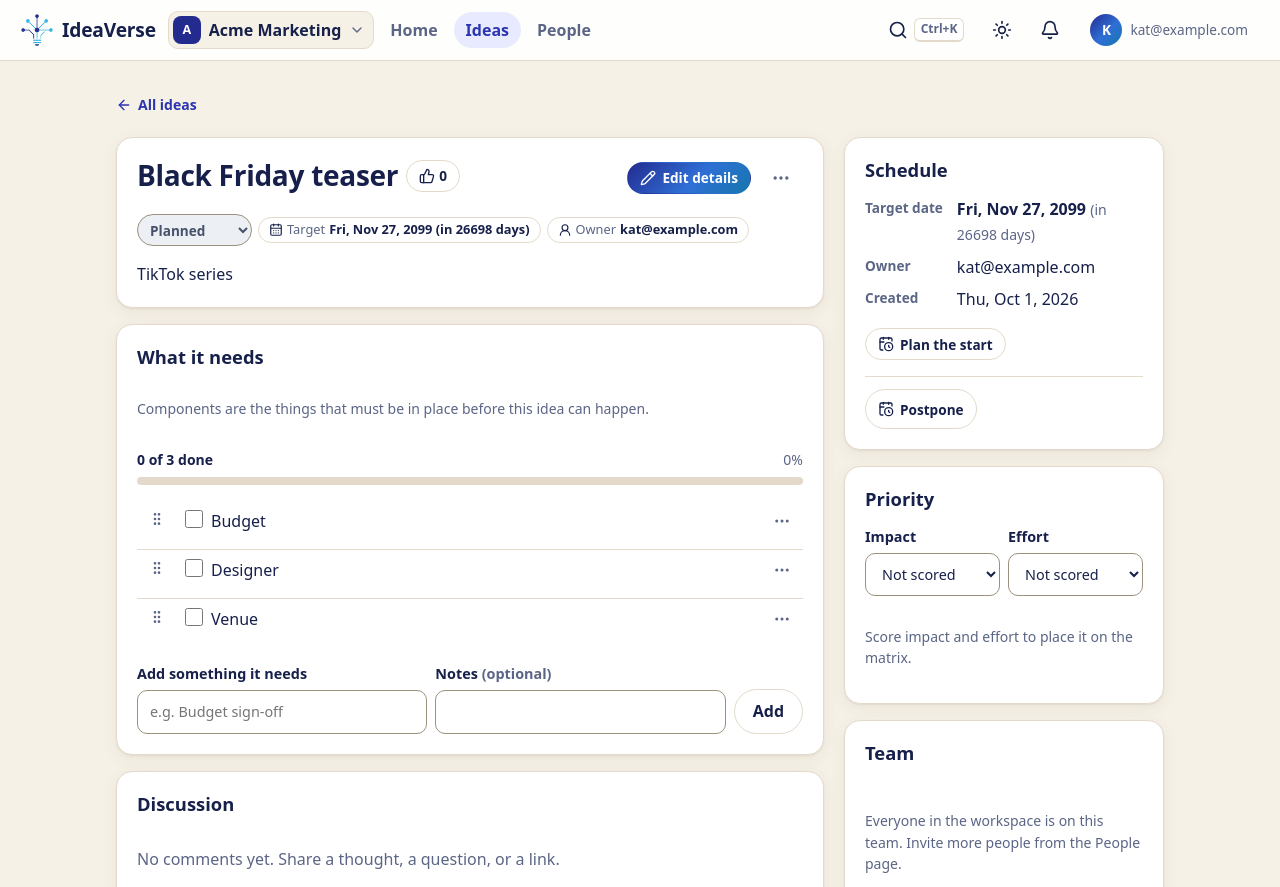
Renaming a component in place › cancels with Escape
The width and height of the screenshot is (1280, 887).
Click the button with aria-label "Rename Budget": (238, 522) [207,509,270,534]
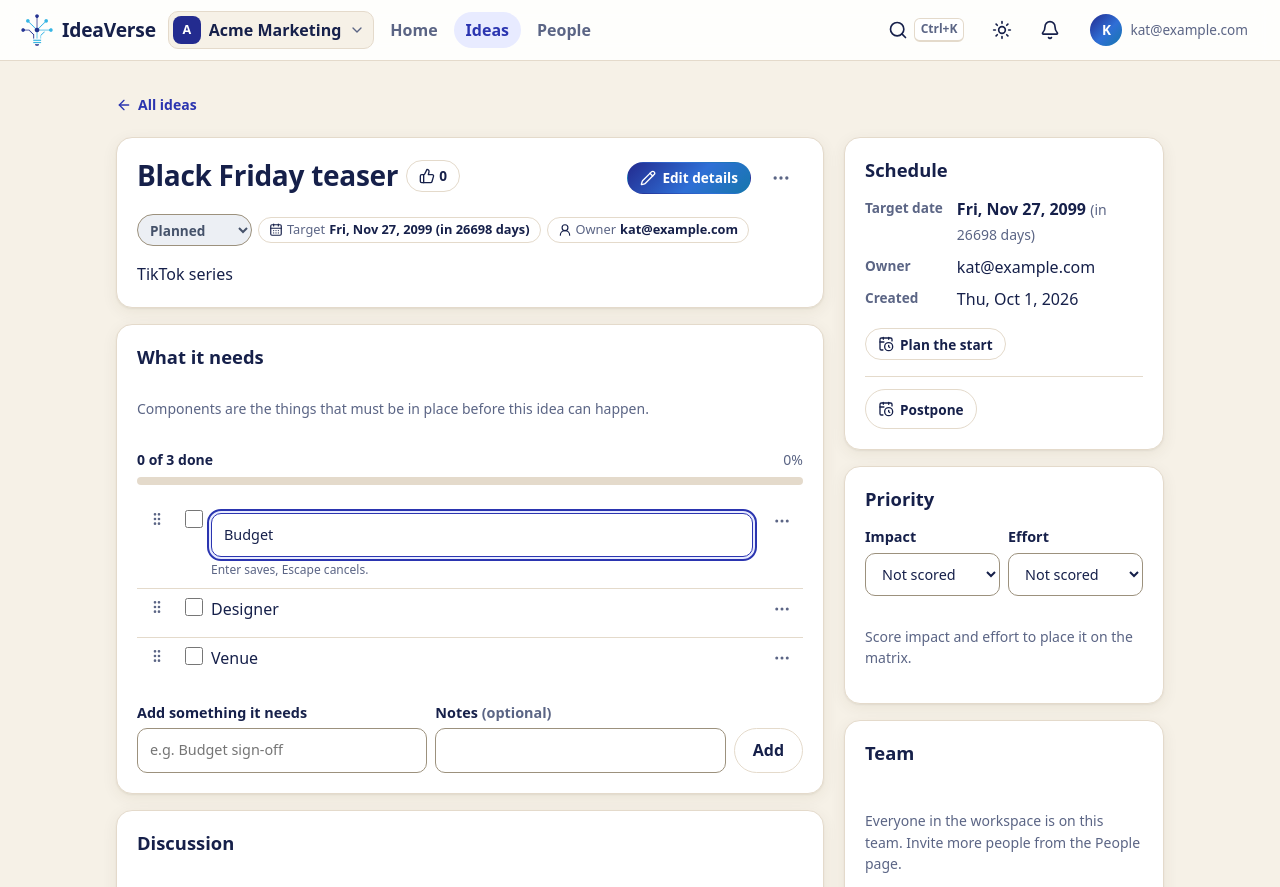
In the field named "Title": (482, 535) [211,513,753,558], type " changed"
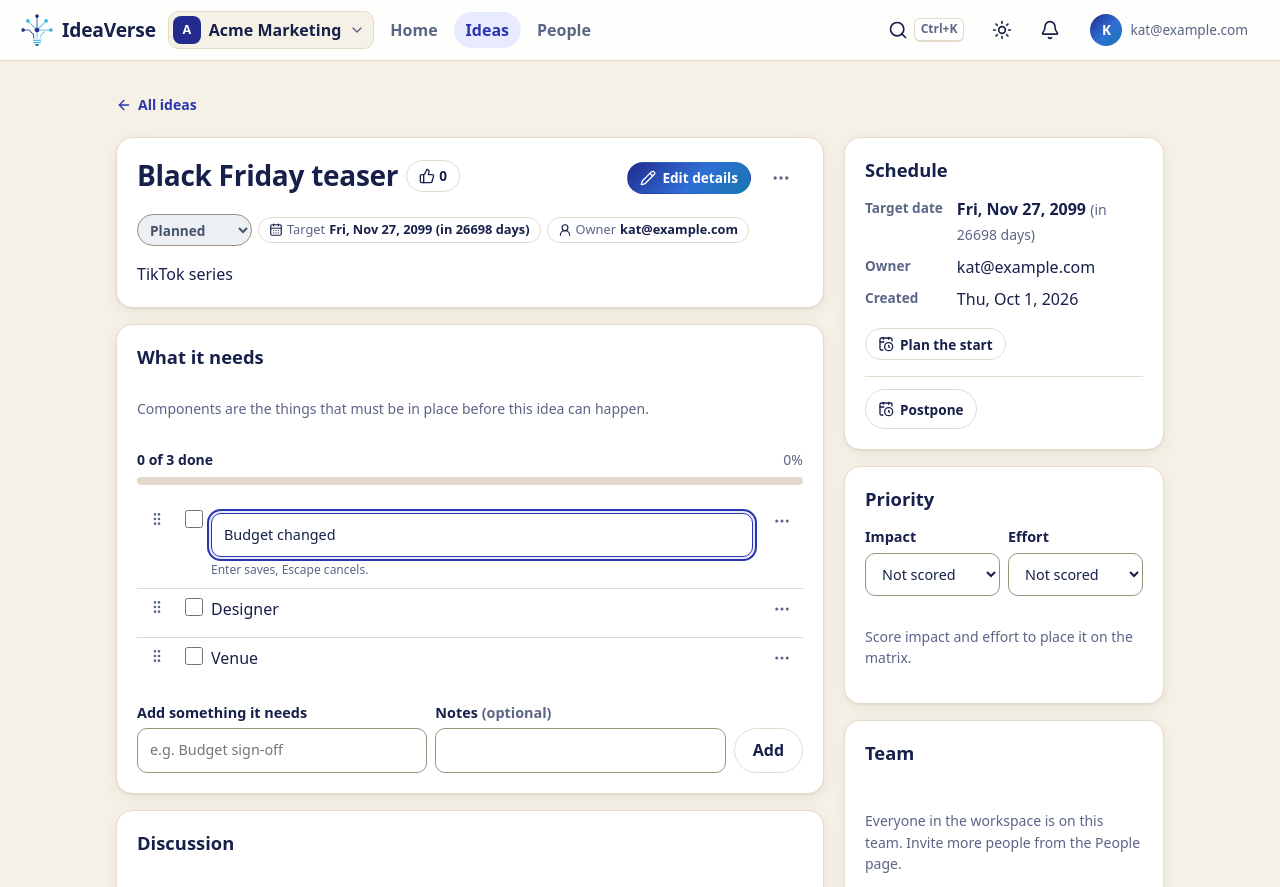
Press Escape
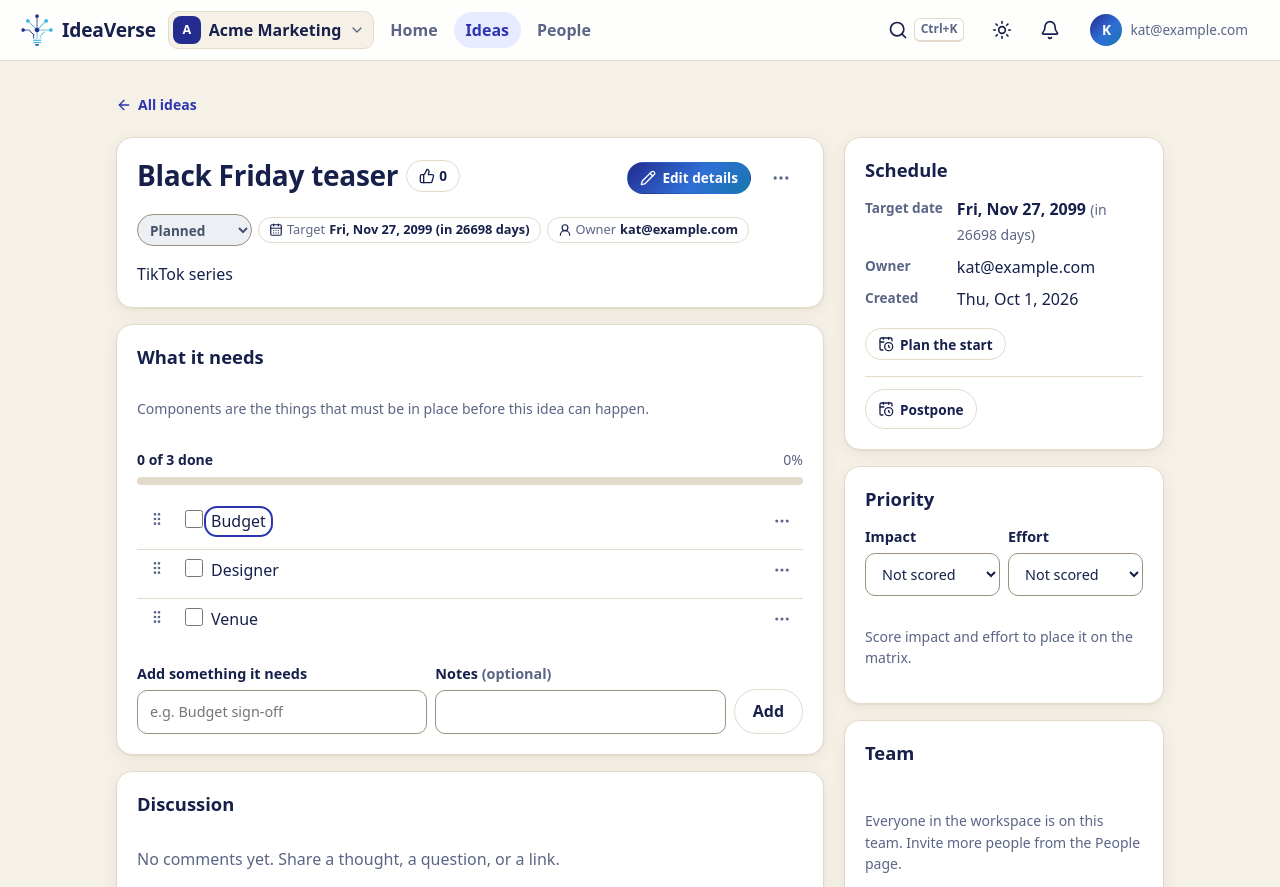
Now the button "Budget" is shown, box [207,509,270,534]
